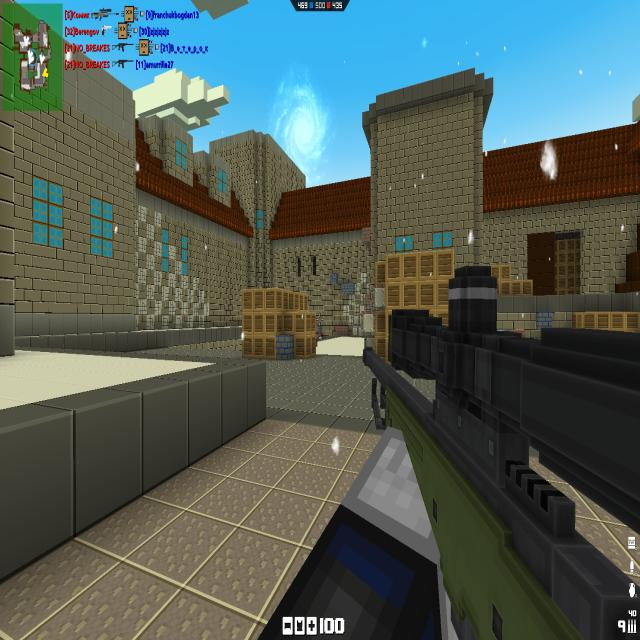player: (316, 316, 318, 347), (319, 335, 323, 341)
